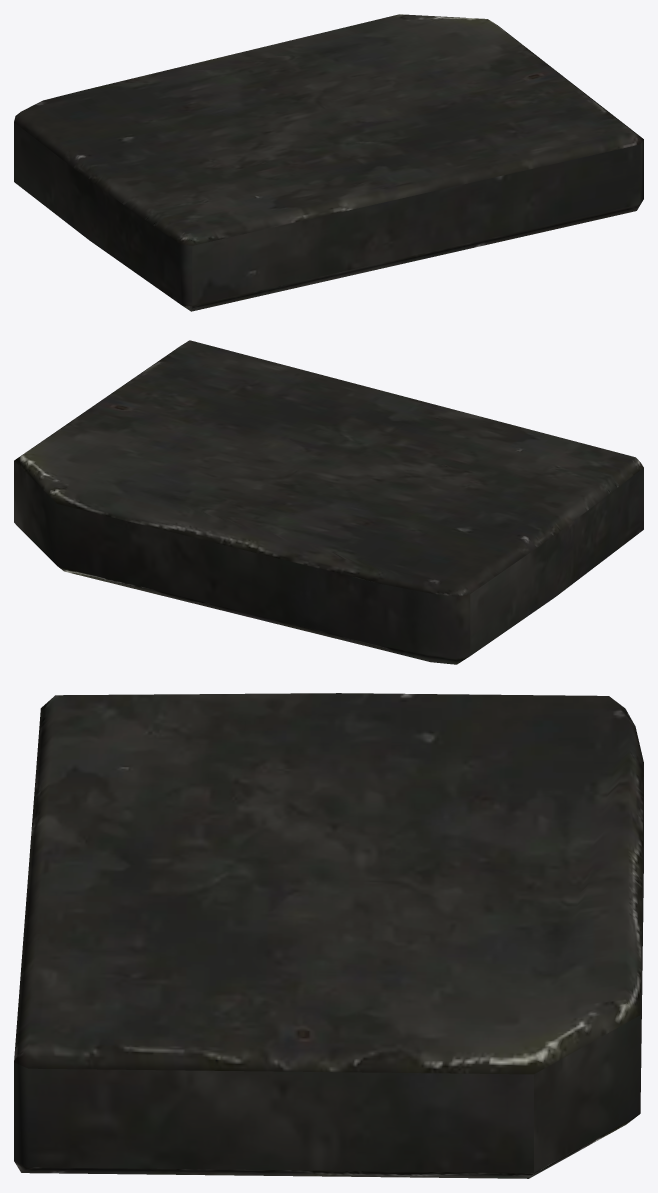
3 renders of one model, top to bottom at view 1: azimuth 30°, elevation 25°; view 2: azimuth 150°, elevation 25°; view 3: azimuth 270°, elevation 25°, orthographic. The views are drawn at different scales.
Visible parts, largest first — view 1: SM_SaradominTemple_Floor_Slab_04_LOD0; view 2: SM_SaradominTemple_Floor_Slab_04_LOD0; view 3: SM_SaradominTemple_Floor_Slab_04_LOD0.
Part boxes in pixels (x1,y1,x2,y2): SM_SaradominTemple_Floor_Slab_04_LOD0: (14, 14, 643, 311); SM_SaradominTemple_Floor_Slab_04_LOD0: (14, 340, 643, 664); SM_SaradominTemple_Floor_Slab_04_LOD0: (14, 693, 643, 1178).
Bounding box in the file's own units: 1.04 × 0.1624 × 0.7409.
1 material, 1 textured.
